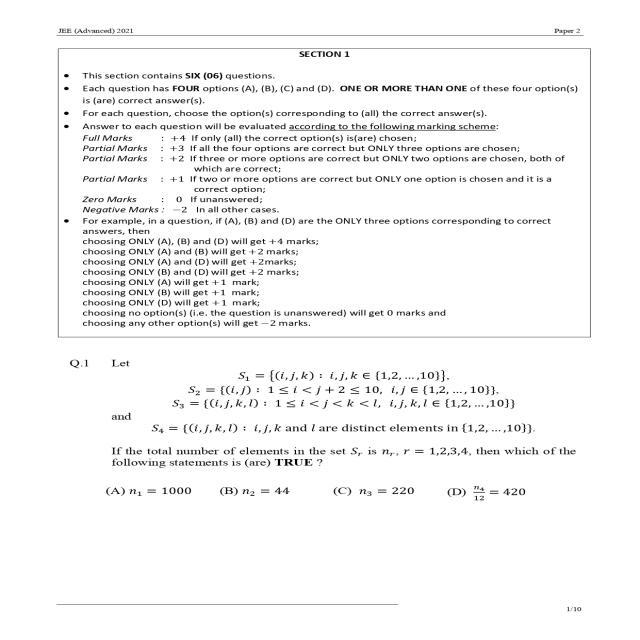Answer_Block: (36, 474, 604, 531)
Instruction: (36, 46, 604, 342)
Question_Answer_Block: (36, 345, 604, 531)
Question_Block: (36, 345, 604, 477)
Question_Paper_Area: (38, 41, 606, 592)
